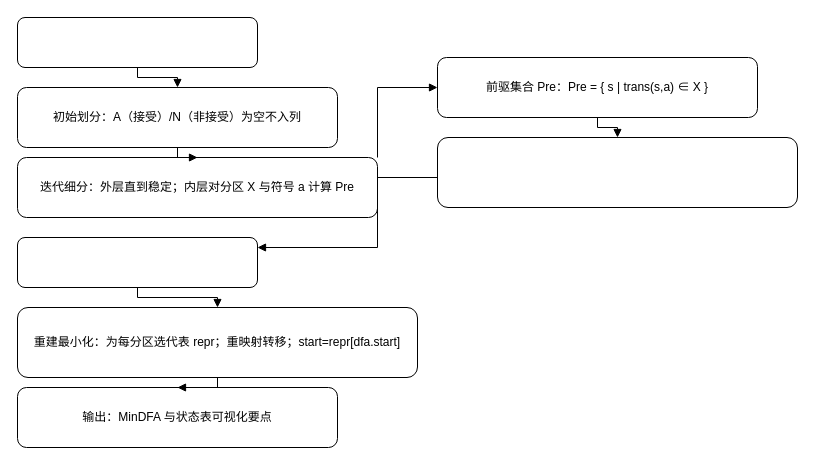
The diagram is 815 pixels wide and 465 high, and some of its shapes have lost their labels. The centre of each missing label's shape, as x and y in pixels:
"分区切分：对每个 Y→Y1/Y2；若均非空则替换并 changed=true" goes at (617,172).
"开始：输入 DFA" goes at (137,42).
"达到稳定：无切分则收敛" goes at (137,262).
